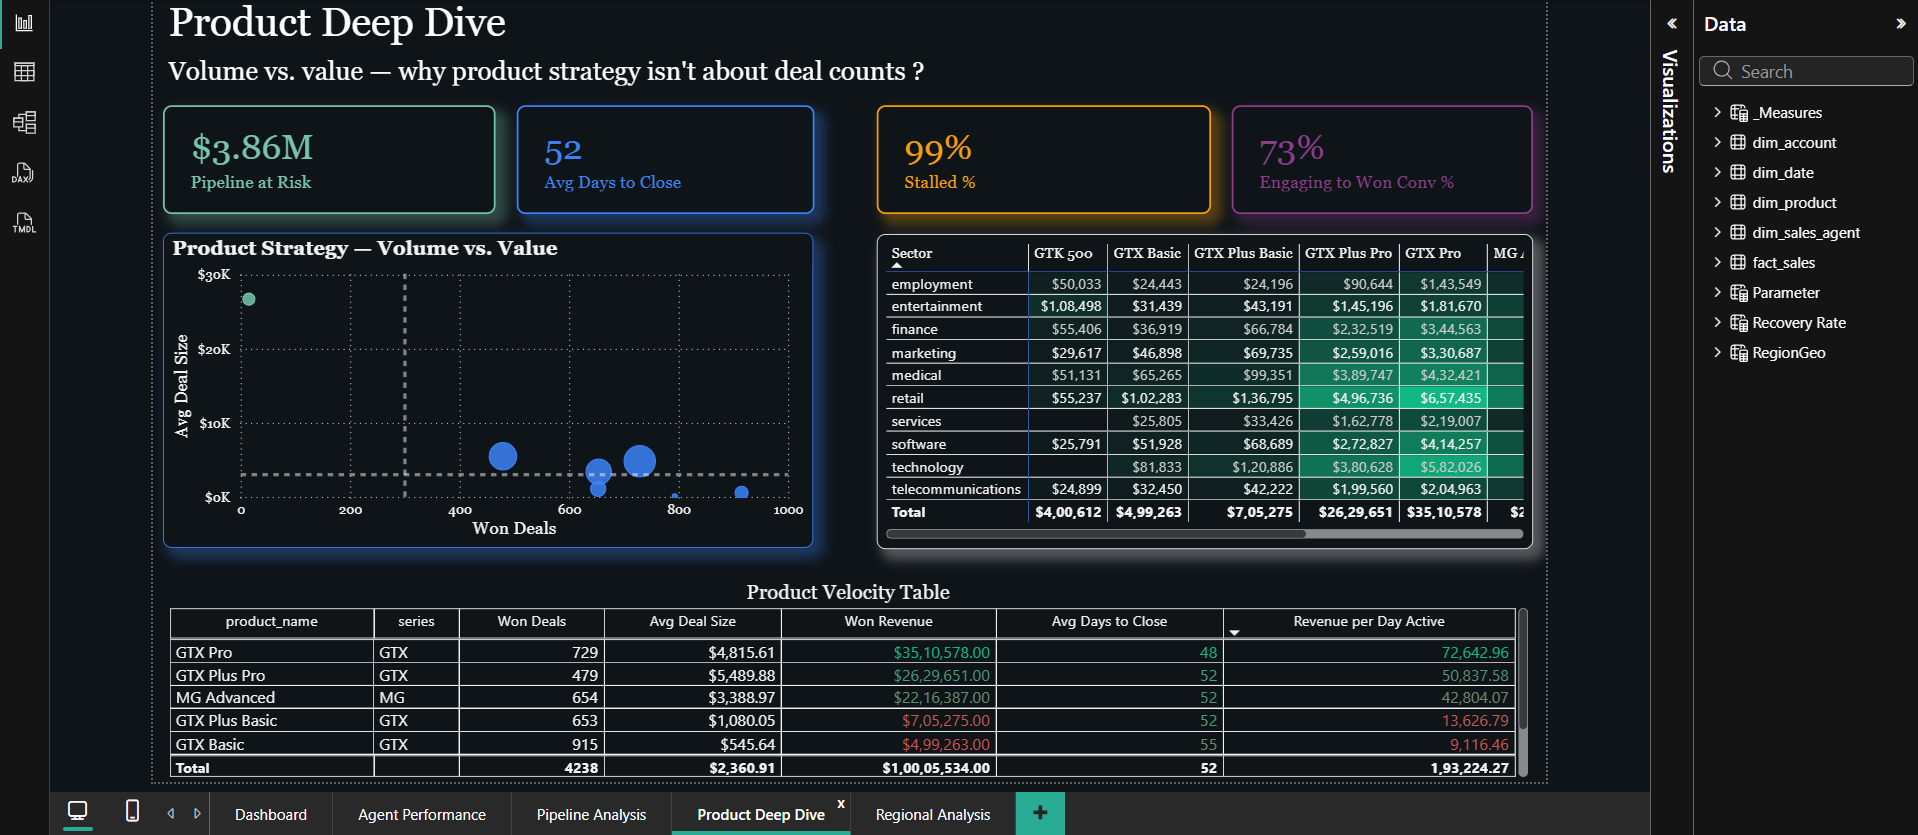

This screenshot's page, from the dashboard's own definition file:
{"tool":"powerbi","page":{"name":"Product Deep Dive","canvas":[1280,720],"ordinal":3},"visuals":[{"type":"textbox","title":"Product Deep Dive","box":[9.3,0,597.7,43],"z":0},{"type":"textbox","title":"Volume vs. value — why product strategy isn''t about deal counts ?","box":[9.3,51.2,753.5,31.4],"z":1000},{"type":"cardVisual","fields":{"Data":["_Measures.Pipeline at Risk"]},"box":[9.3,97.7,305.8,100],"z":2000},{"type":"cardVisual","fields":{"Data":["_Measures.Stalled %"]},"box":[665.1,97.7,307,100],"z":3000},{"type":"cardVisual","fields":{"Data":["_Measures.Avg Days to Close"]},"box":[333.7,97.7,273.3,100],"z":4000},{"type":"cardVisual","fields":{"Data":["_Measures.Engaging to Won Conv %"]},"box":[991.9,97.7,276.7,100],"z":5000},{"type":"scatterChart","title":"Product Strategy — Volume vs. Value","fields":{"Category":["dim_product.product_name"],"X":["_Measures.Won Deals"],"Y":["_Measures.Avg Deal Size"],"Size":["_Measures.Won Revenue"]},"box":[9.3,215.1,597.7,289.5],"z":6000},{"type":"pivotTable","title":"Revenue by Sector × Product","fields":{"Rows":["dim_account.sector"],"Columns":["dim_product.product_name"],"Values":["_Measures.Won Revenue"]},"box":[665.1,216.3,603.5,289.5],"z":7000},{"type":"tableEx","title":"Product Velocity Table","fields":{"Values":["dim_product.product_name","dim_product.series","_Measures.Won Deals","_Measures.Avg Deal Size","_Measures.Won Revenue","_Measures.Avg Days to Close","_Measures.Revenue per Day Active"]},"box":[9.3,533.7,1259.3,186],"z":8000}]}

Visuals, with their boxes on the page's 1280x720 design canvas (x1, y1, x2, y2). These are canvas units, not pixel positions in the 1918x835 screenshot, which may show the page scaled, cropped or inside an application window:
"Product Deep Dive" textbox: BBox(9, 0, 607, 43)
"Volume vs. value — why product strategy isn''t about deal counts ?" textbox: BBox(9, 51, 763, 83)
cardVisual - _Measures.Pipeline at Risk: BBox(9, 98, 315, 198)
cardVisual - _Measures.Stalled %: BBox(665, 98, 972, 198)
cardVisual - _Measures.Avg Days to Close: BBox(334, 98, 607, 198)
cardVisual - _Measures.Engaging to Won Conv %: BBox(992, 98, 1269, 198)
"Product Strategy — Volume vs. Value" scatterChart: BBox(9, 215, 607, 505)
"Revenue by Sector × Product" pivotTable: BBox(665, 216, 1269, 506)
"Product Velocity Table" tableEx: BBox(9, 534, 1269, 720)
